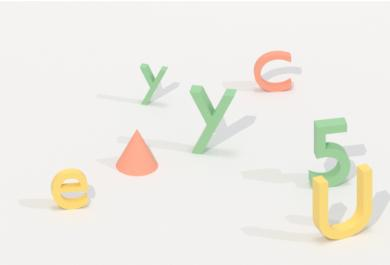0-TamGiac: (110, 125, 165, 184)
5: (305, 115, 353, 190)
C: (249, 44, 298, 99)
U: (309, 162, 378, 245)
e: (45, 163, 93, 217)
y: (184, 79, 239, 160), (137, 59, 170, 109)
